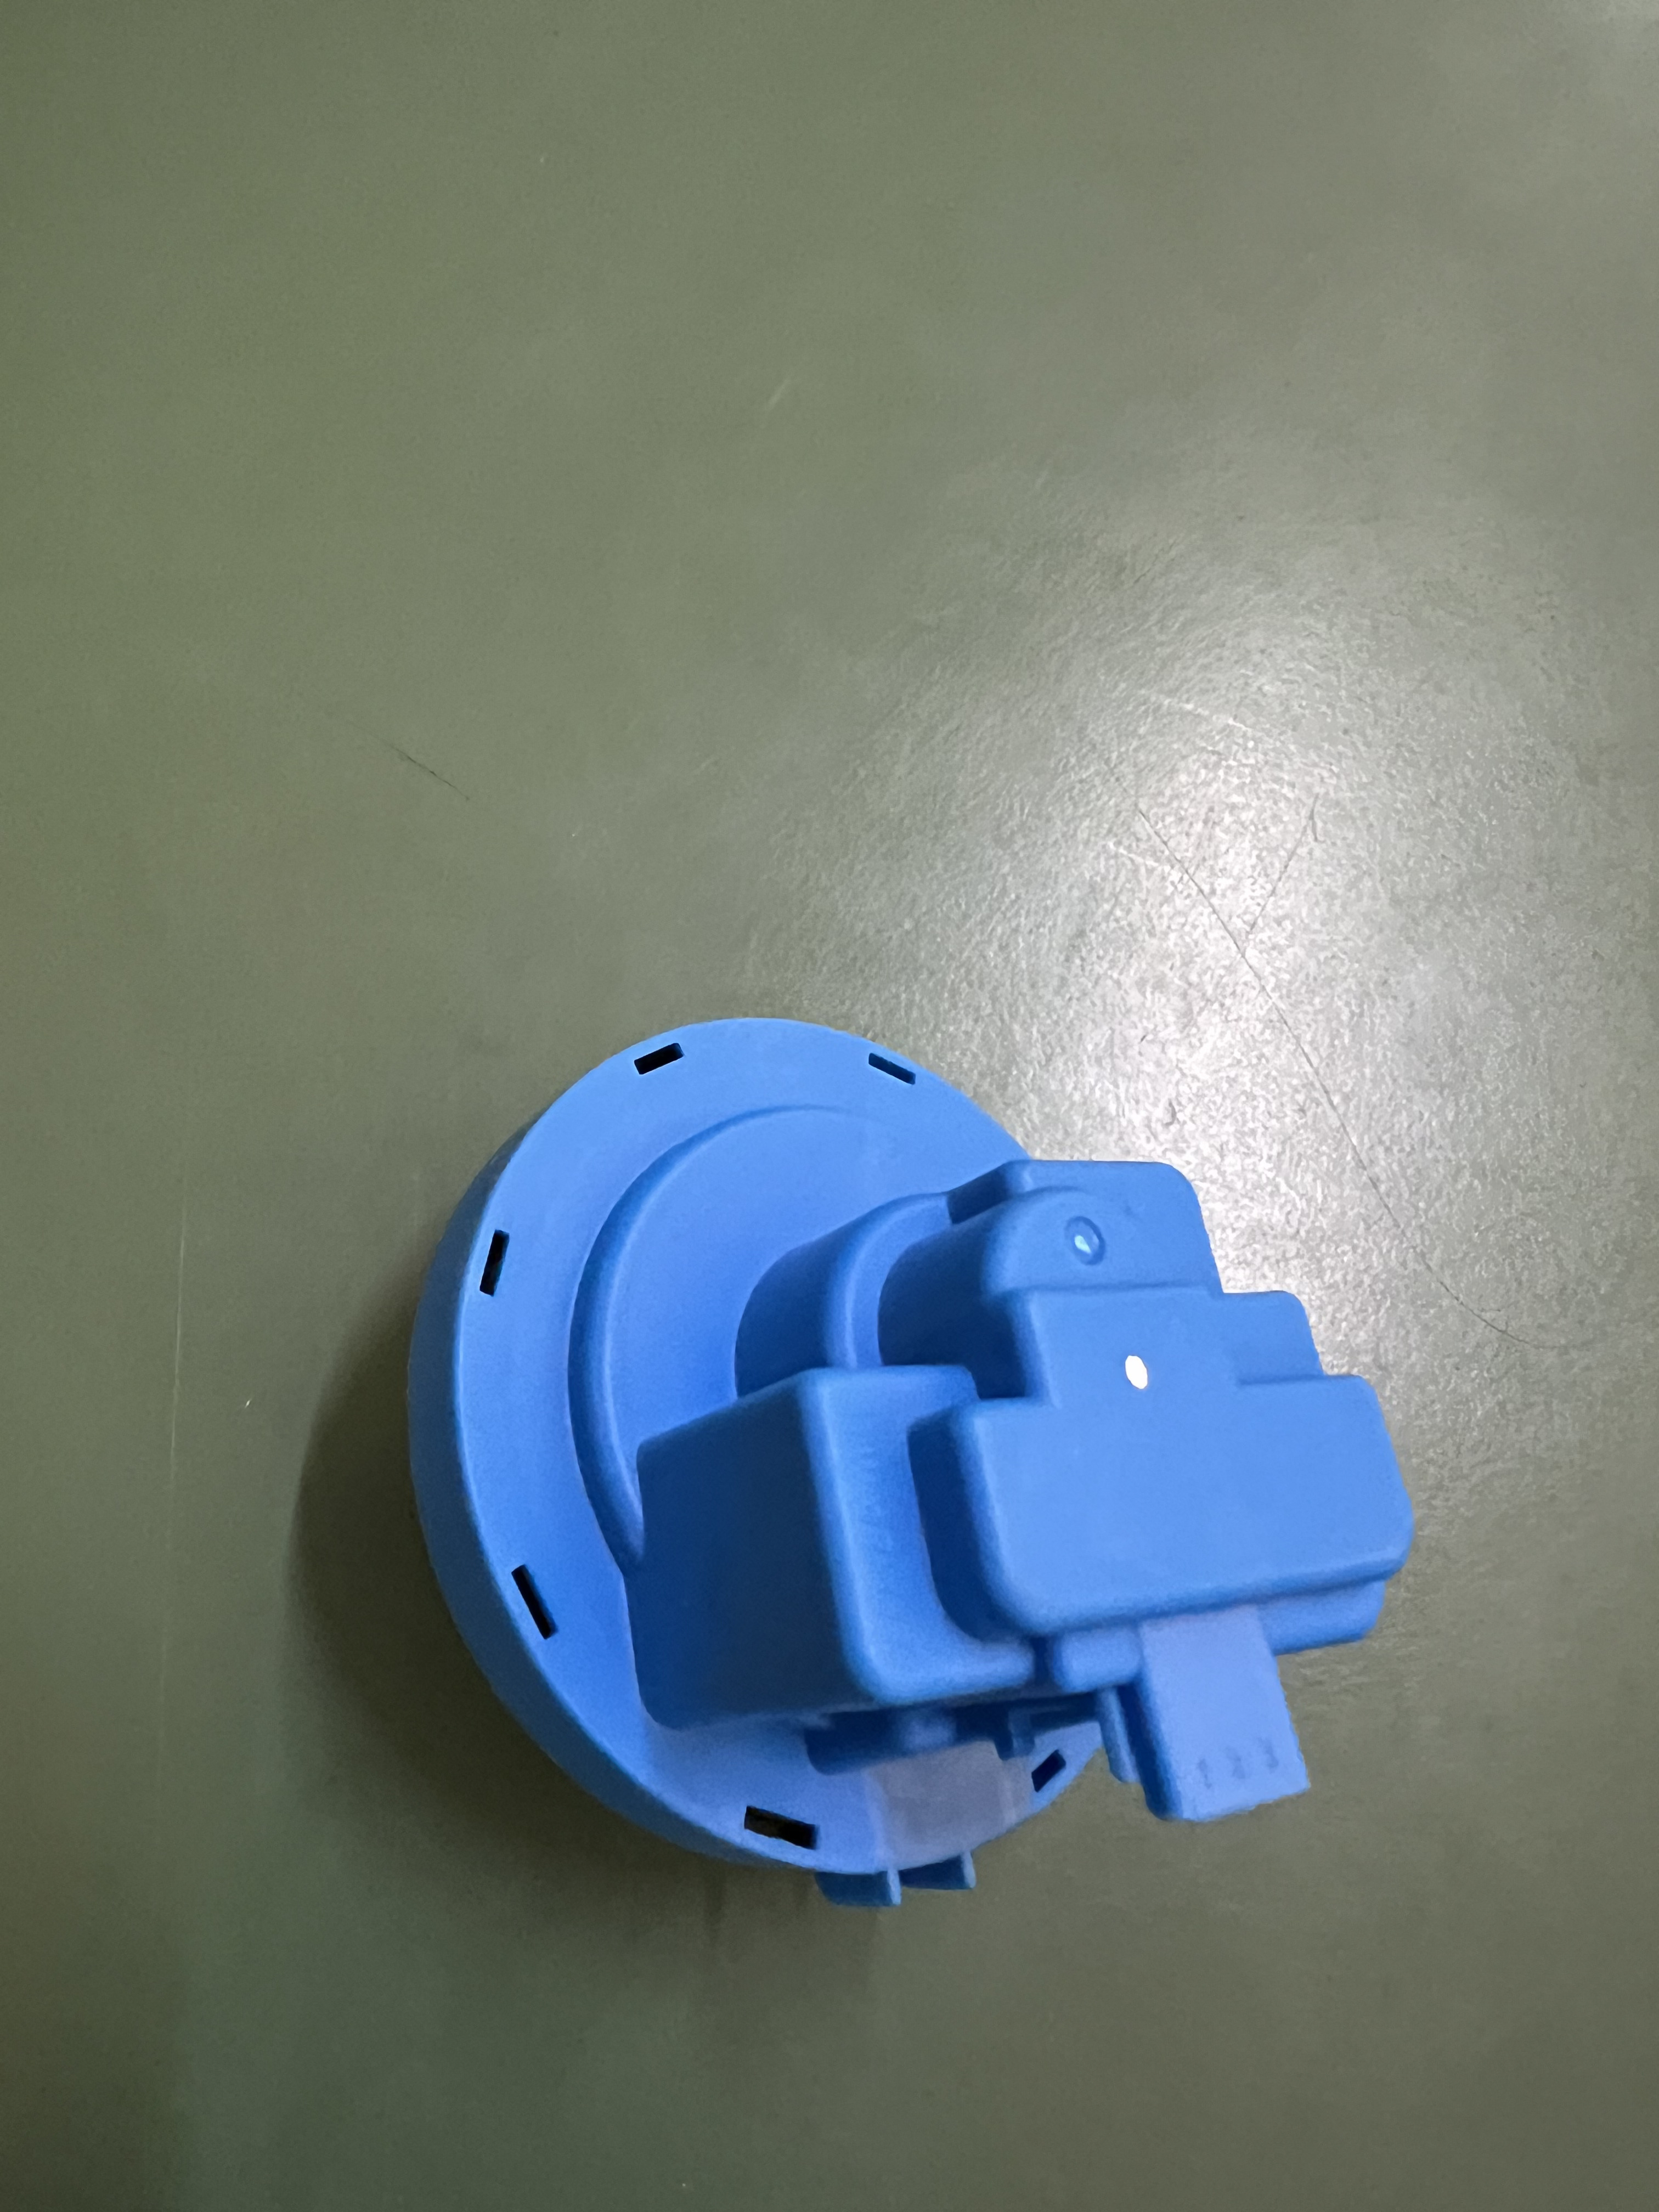voltas_beko_pressure_switch: (354, 988, 1392, 1872)
